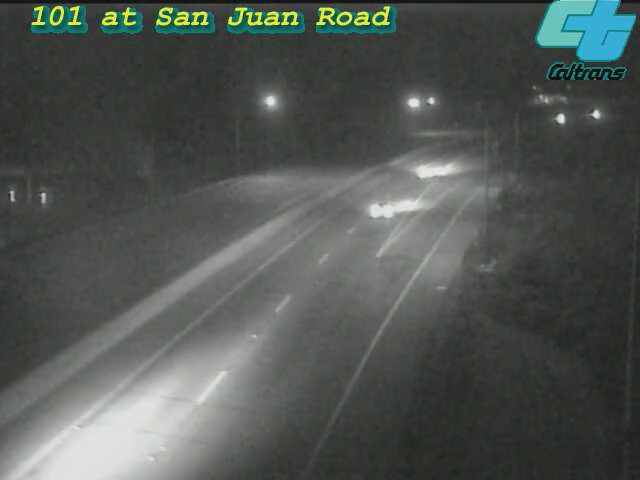vehicle: (386, 130, 466, 210), (342, 168, 422, 248), (537, 93, 587, 143), (571, 90, 621, 140)
